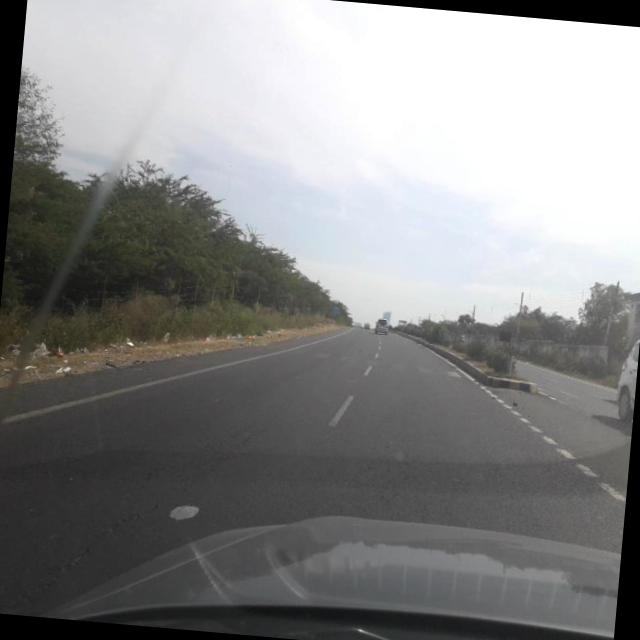pothole: (12, 393, 270, 622)
